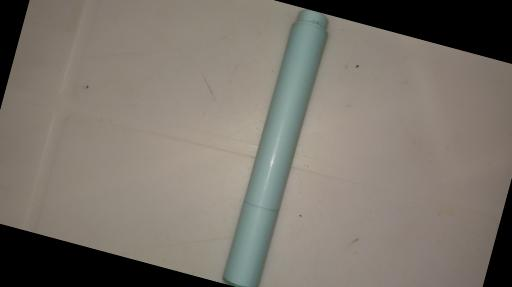Highlighter: (220, 5, 332, 287)
